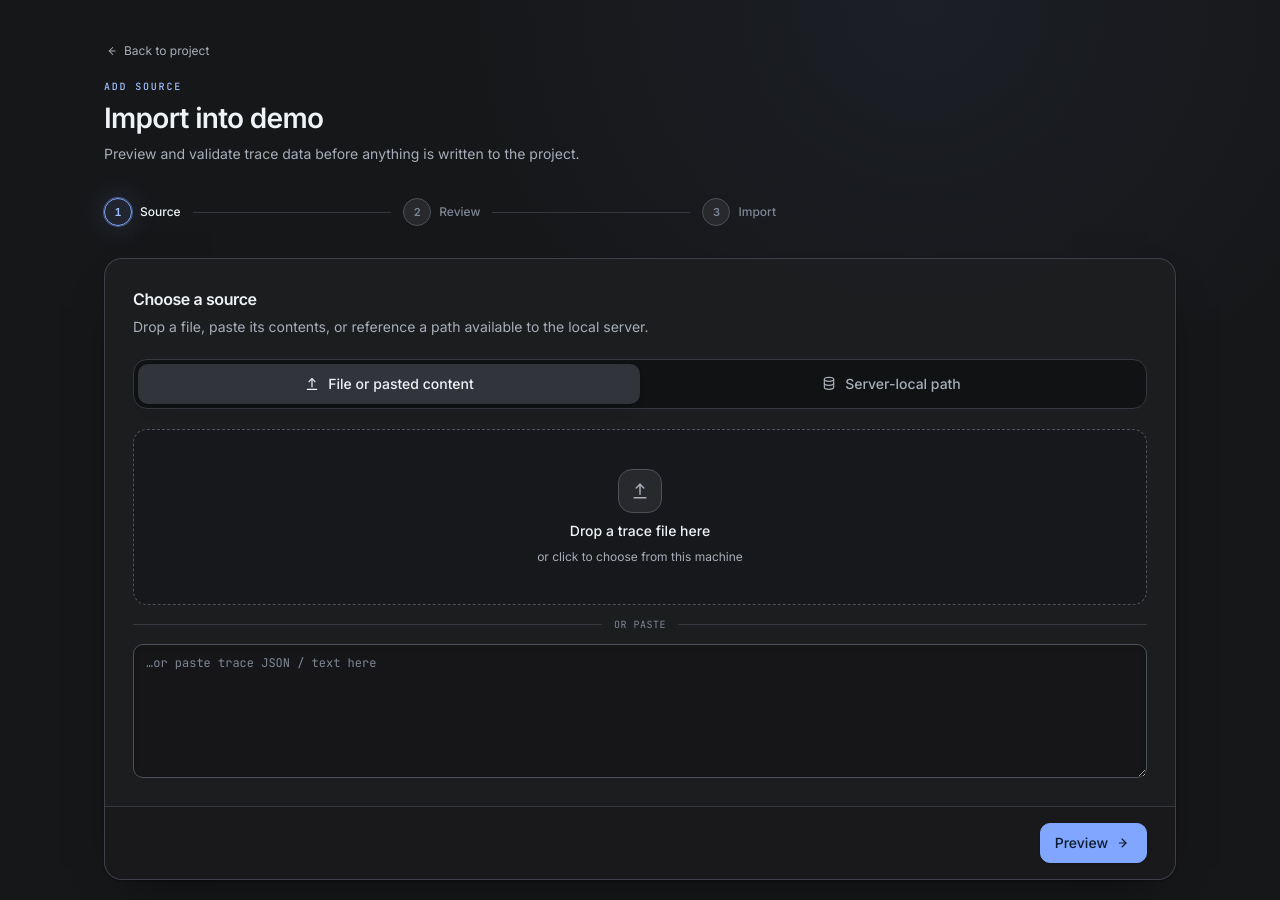
Test: ImportWizard › requires a path (not content) once server-local path mode is selected
This screenshot has width=1280, height=900.
Click the radio button labelled "Server-local path".
click(891, 384)  # box x1=640 y1=364 x2=1142 y2=404
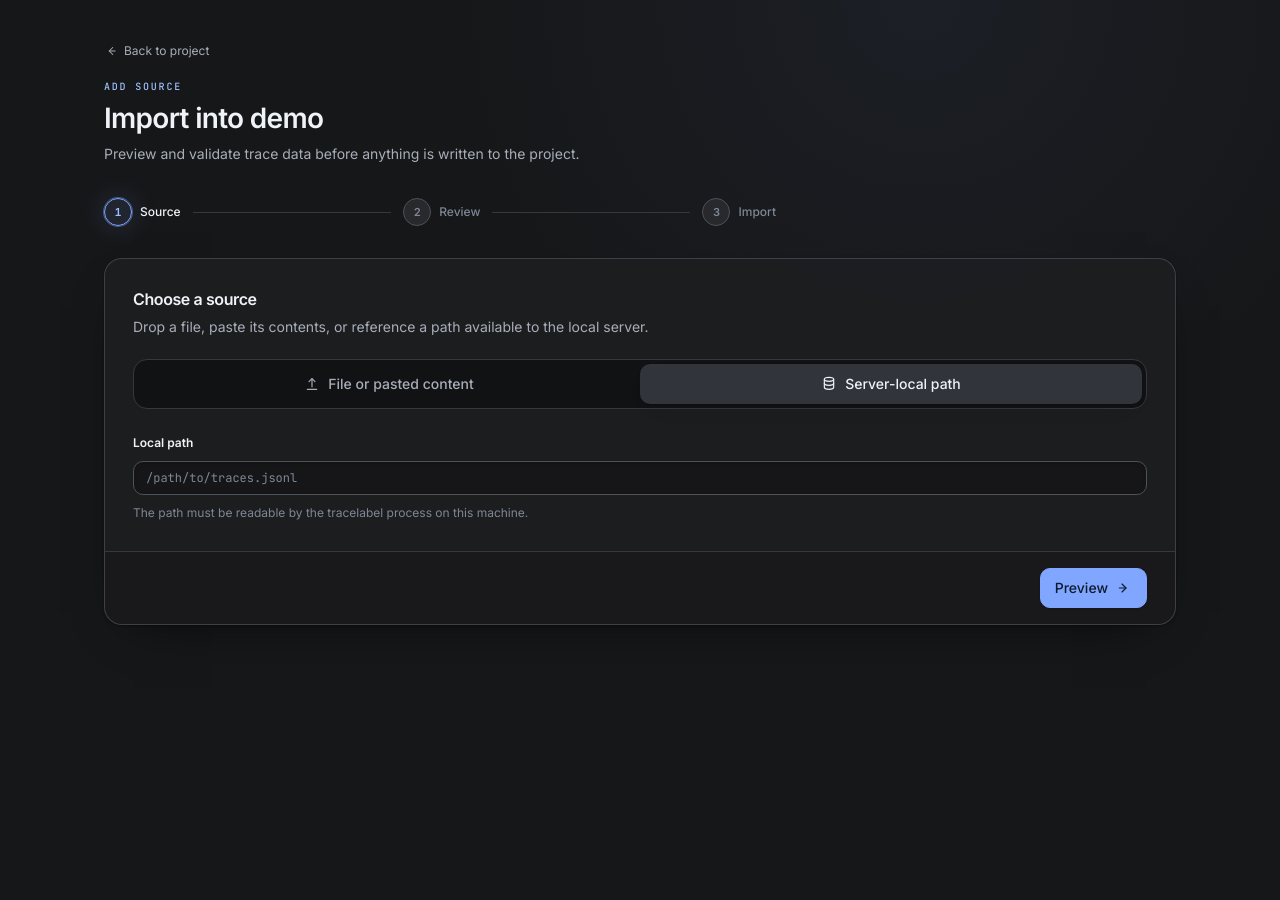
Click the button "Preview".
click(1093, 588)  # box x1=1040 y1=568 x2=1147 y2=608
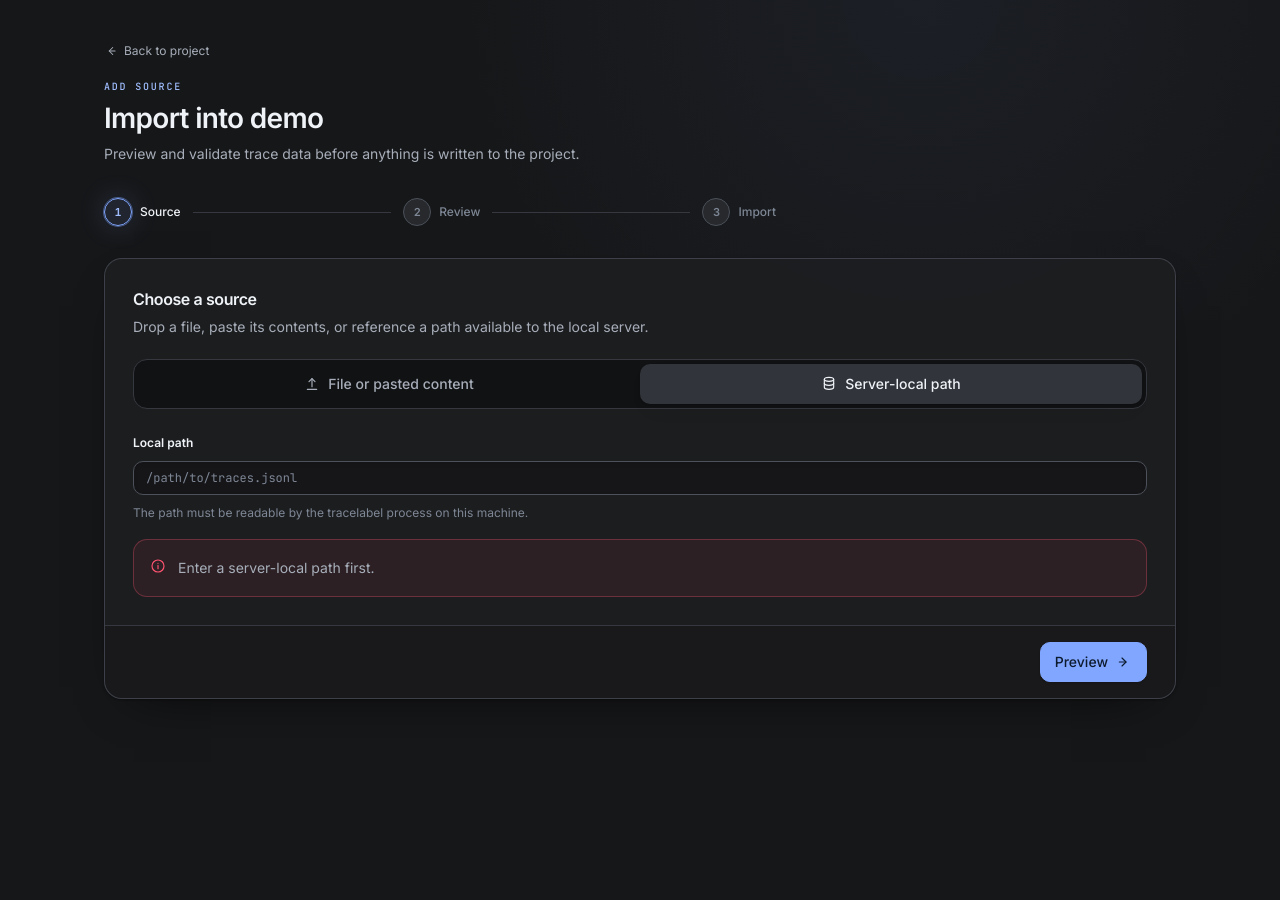
Now the text "Enter a server-local path first." is shown, box x1=178 y1=556 x2=375 y2=580
